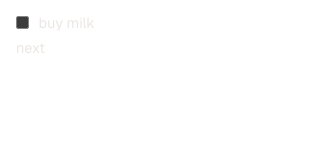
the live editor › a click on a task's checkbox rewrites the text
Click the checkbox with class "cm-md-check" at (22, 22), box [16, 16, 29, 29]
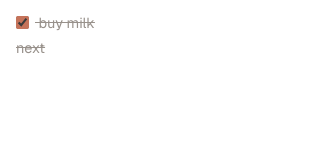
Now the checkbox with class "cm-md-check" is checked, box [16, 16, 29, 29]
